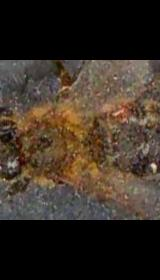varroa_mite: (108, 100, 131, 134)
